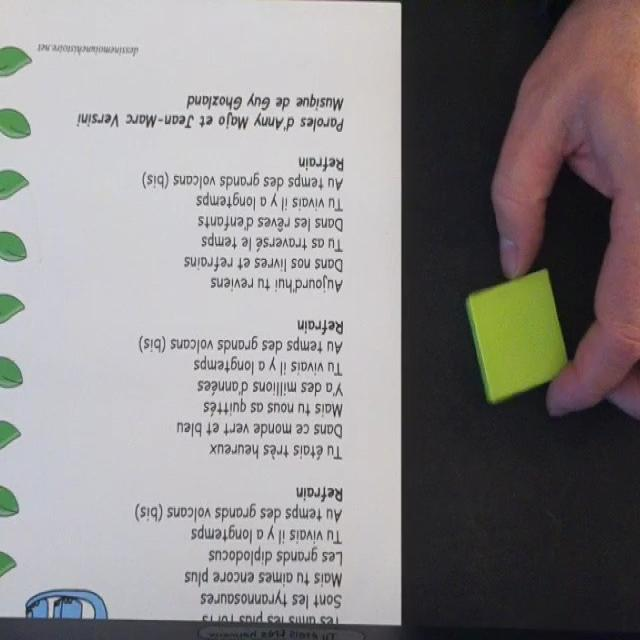square: (466, 268, 574, 406)
